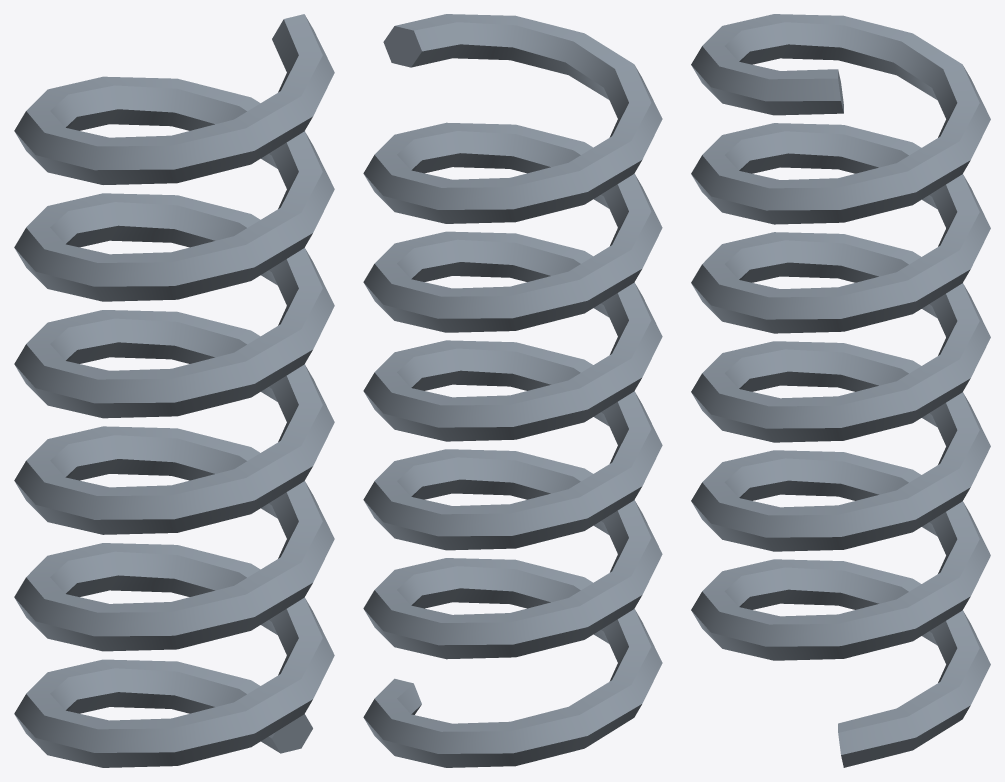
The model's file is SM_CoilSpring.fbx.
3 renders of one model, left to right at view 1: azimuth 30°, elevation 25°; view 2: azimuth 150°, elevation 25°; view 3: azimuth 270°, elevation 25°, orthographic. The views are drawn at different scales.
Visible parts, largest first — view 1: SM_CoilSpring; view 2: SM_CoilSpring; view 3: SM_CoilSpring.
Part boxes in pixels (<box>): SM_CoilSpring: <box>14,14,334,767</box>; SM_CoilSpring: <box>363,14,662,767</box>; SM_CoilSpring: <box>691,14,990,767</box>.
Size of the model in its own units: 1.34 by 1.34 by 3.4.
